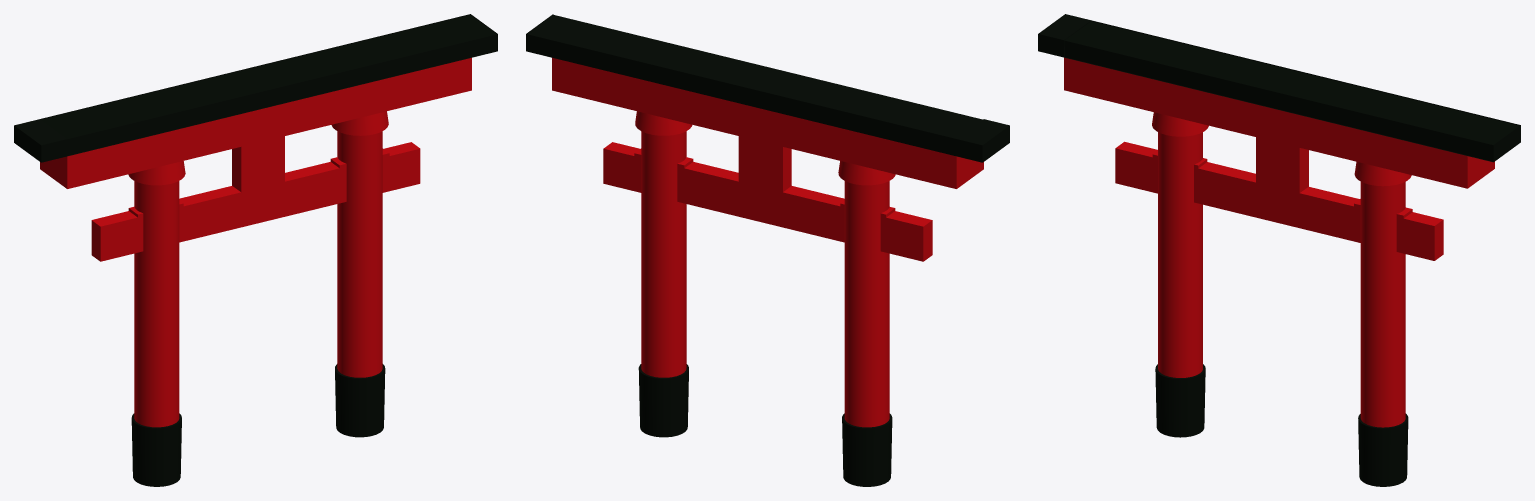
Rendered from torii.fbx.
The picture shows the model from 3 angles, left to right: view 1: azimuth 30°, elevation 25°; view 2: azimuth 150°, elevation 25°; view 3: azimuth 330°, elevation 25°; orthographic projection.
Visible parts, largest first — view 1: obj1; view 2: obj1; view 3: obj1.
Boxes of the visible parts, x1,y1,x2,y2 form: obj1: (14,14,497,486); obj1: (526,14,1009,486); obj1: (1038,14,1520,486).
Bounding box in the file's own units: 1745 × 1366 × 190.
